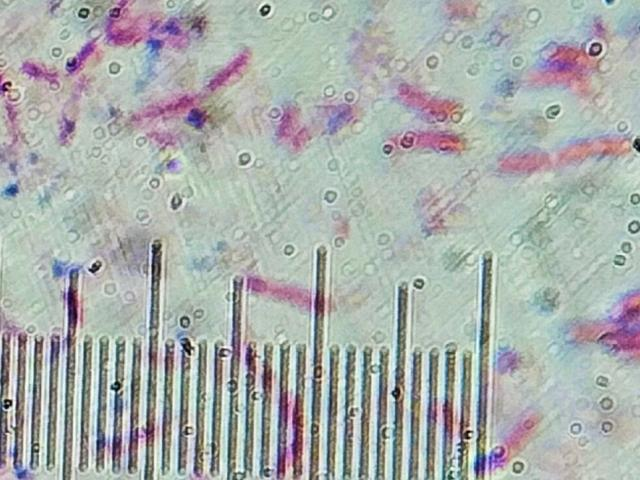E. coli: (499, 135, 626, 176), (238, 267, 329, 307), (116, 10, 192, 45), (61, 76, 94, 145), (132, 85, 209, 113), (401, 79, 454, 114), (392, 125, 459, 152), (501, 410, 538, 455), (213, 45, 253, 85), (586, 325, 636, 355), (529, 70, 585, 95), (271, 97, 305, 129), (613, 287, 639, 323), (25, 59, 65, 82), (548, 42, 576, 67), (65, 39, 100, 58)
